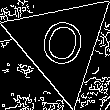O_S: (33, 13, 89, 75)
